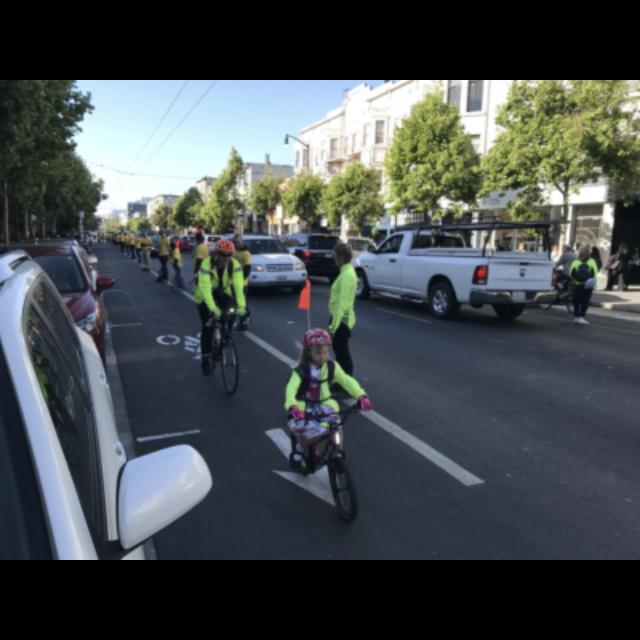With Helmet: (301, 328, 335, 364), (210, 238, 237, 268)
